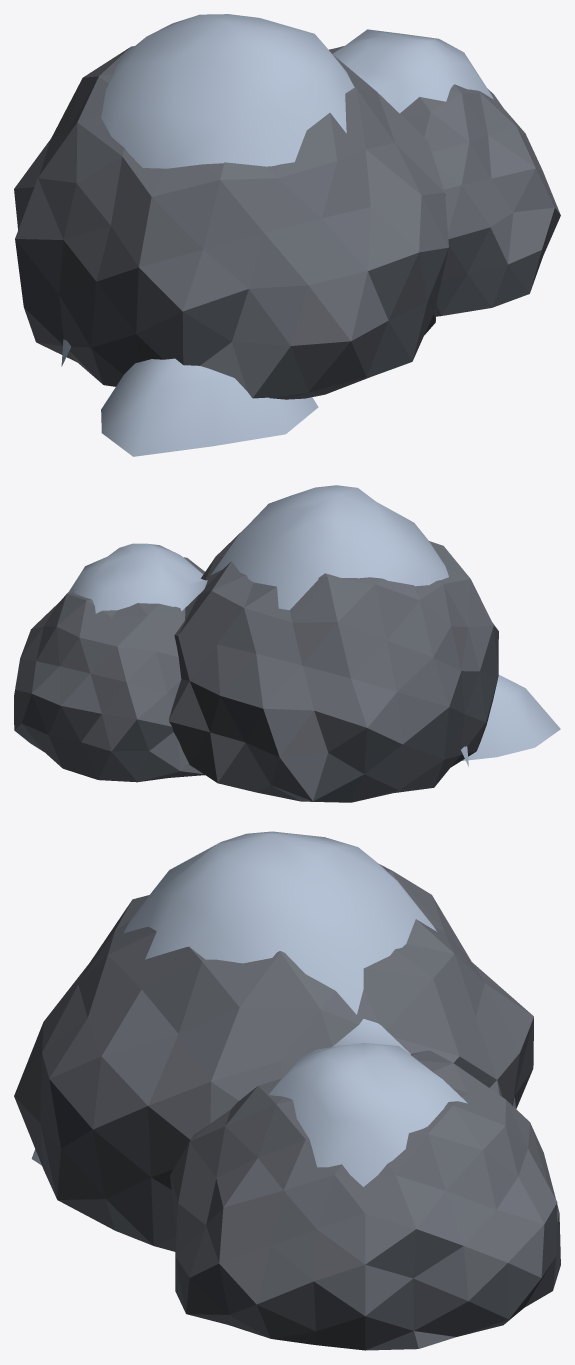
File: rock_b.glb
The picture shows the model from 3 angles, top to bottom: view 1: azimuth 30°, elevation 25°; view 2: azimuth 150°, elevation 25°; view 3: azimuth 270°, elevation 25°; orthographic projection. The views are drawn at different scales.
Parts seen in each view (by area): view 1: Rock; view 2: Rock; view 3: Rock.
Boxes of the visible parts, x1=… form: Rock: x1=14, y1=14, x2=560, y2=456; Rock: x1=14, y1=485, x2=560, y2=802; Rock: x1=14, y1=831, x2=560, y2=1350.
Size of the model in its own units: 2.25 by 1.28 by 1.8.
